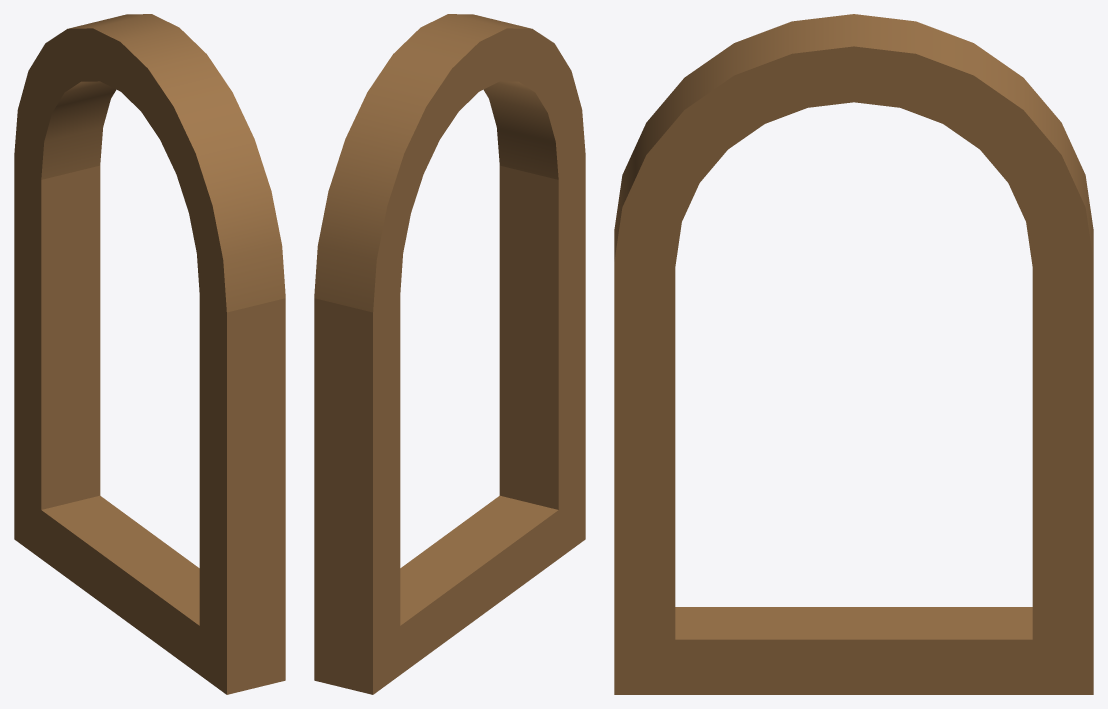
Rendered from detail_022.fbx.
3 renders of one model, left to right at view 1: azimuth 30°, elevation 25°; view 2: azimuth 150°, elevation 25°; view 3: azimuth 270°, elevation 25°, orthographic. The views are drawn at different scales.
Parts seen in each view (by area): view 1: detail_022; view 2: detail_022; view 3: detail_022.
Boxes of the visible parts, x1=… form: detail_022: x1=14, y1=14, x2=285, y2=694; detail_022: x1=314, y1=14, x2=585, y2=694; detail_022: x1=614, y1=14, x2=1093, y2=694.
Size of the model in its own units: 0.5 by 4.66 by 3.12.
